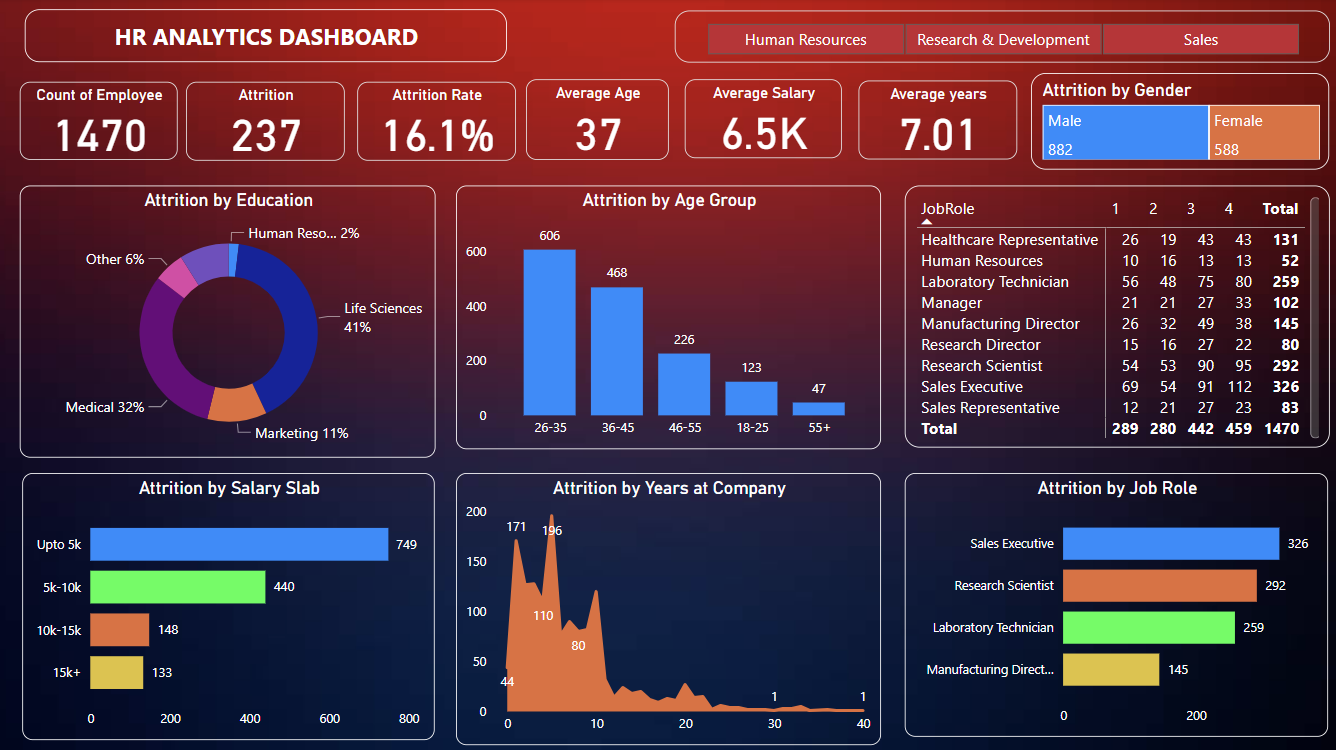

Layout of this report page (visuals, bound fields, positions):
{"tool":"powerbi","page":{"name":"Page 1","canvas":[1280,720],"ordinal":0},"visuals":[{"type":"treemap","title":"Attrition by Gender","fields":{"Details":["HR_Analytics.Gender"],"Values":["CountNonNull(HR_Analytics.Attrition)"]},"box":[985.3,71.4,284,91.9],"z":0},{"type":"columnChart","title":"Attrition by Age Group","fields":{"Category":["HR_Analytics.AgeGroup"],"Y":["CountNonNull(HR_Analytics.Attrition)"]},"box":[437.7,178.4,404.8,251.1],"z":1000},{"type":"barChart","title":"Attrition by Job Role","fields":{"Category":["HR_Analytics.JobRole"],"Y":["CountNonNull(HR_Analytics.Attrition)"]},"box":[865.9,452.8,403.4,251.1],"z":2000},{"type":"areaChart","title":"Attrition by Years at Company","fields":{"Y":["CountNonNull(HR_Analytics.Attrition)"],"Category":["HR_Analytics.YearsAtCompany"]},"box":[437.7,452.8,404.8,259.3],"z":3000},{"type":"textbox","box":[27.8,10.9,458.9,50.7],"z":4000},{"type":"card","title":"Count of Employee","fields":{"Values":["Sum(HR_Analytics.EmployeeCount)"]},"box":[22.9,80.3,150.5,74.5],"z":5000},{"type":"donutChart","title":"Attrition by Education","fields":{"Category":["HR_Analytics.EducationField"],"Y":["CountNonNull(HR_Analytics.Attrition)"]},"box":[22.8,178.9,396.2,259.4],"z":6000},{"type":"barChart","title":"Attrition by Salary Slab","fields":{"Category":["HR_Analytics.SalarySlab"],"Y":["CountNonNull(HR_Analytics.Attrition)"]},"box":[25.2,452.7,392.6,254.6],"z":7000},{"type":"card","title":"Attrition","fields":{"Values":["Sum(HR_Analytics.Attrition Count)"]},"box":[181.1,79.6,150.9,75.5],"z":8000},{"type":"card","title":"Attrition Rate","fields":{"Values":["HR_Analytics.Attrition Rate"]},"box":[344.4,79.6,150.9,75.5],"z":9000},{"type":"card","title":"Average Age","fields":{"Values":["Avg(HR_Analytics.Age)"]},"box":[505,76.8,135.8,76.8],"z":10000},{"type":"card","title":"Average Salary","fields":{"Values":["Avg(HR_Analytics.MonthlyIncome)"]},"box":[655.9,76.8,149.6,75.5],"z":11000},{"type":"card","title":"Average  years","fields":{"Values":["Avg(HR_Analytics.YearsAtCompany)"]},"box":[822,78.2,150.9,75.5],"z":12000},{"type":"pivotTable","fields":{"Rows":["HR_Analytics.JobRole"],"Columns":["HR_Analytics.JobSatisfaction"],"Values":["CountNonNull(HR_Analytics.Attrition Count)"]},"box":[865.9,178.4,404.8,249.7],"z":13000},{"type":"slicer","fields":{"Values":["HR_Analytics.Department"]},"box":[646.3,12.3,624.4,49.4],"z":14000}]}

Visuals, with their boxes in screenshot pixels (x1, y1, x2, y2), scaled from the page's 1280x720 canvas onto the 1336x750 screenshot:
"Attrition by Gender" treemap: 1028 74 1325 170
"Attrition by Age Group" columnChart: 457 186 879 447
"Attrition by Job Role" barChart: 904 472 1325 733
"Attrition by Years at Company" areaChart: 457 472 879 742
textbox: 29 11 508 64
"Count of Employee" card: 24 84 181 161
"Attrition by Education" donutChart: 24 186 437 457
"Attrition by Salary Slab" barChart: 26 472 436 737
"Attrition" card: 189 83 347 162
"Attrition Rate" card: 359 83 517 162
"Average Age" card: 527 80 669 160
"Average Salary" card: 685 80 841 159
"Average  years" card: 858 81 1015 160
pivotTable - HR_Analytics.JobRole x HR_Analytics.JobSatisfaction: 904 186 1326 446
slicer - HR_Analytics.Department: 675 13 1326 64
